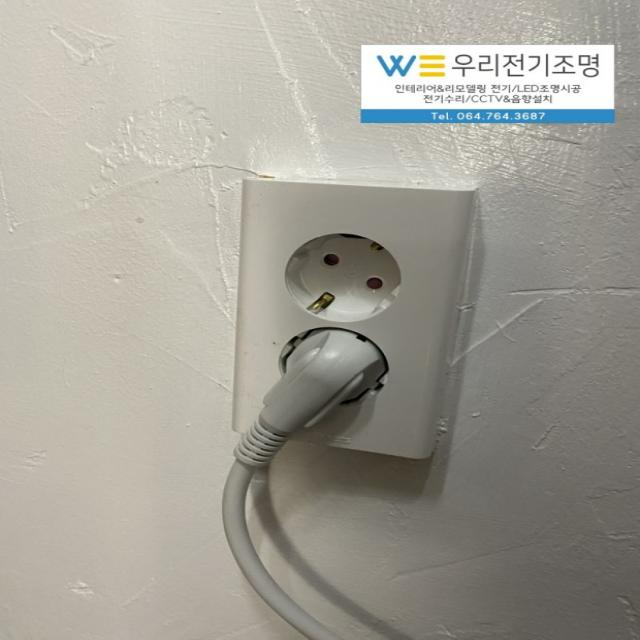typeb: (200, 128, 489, 506)
